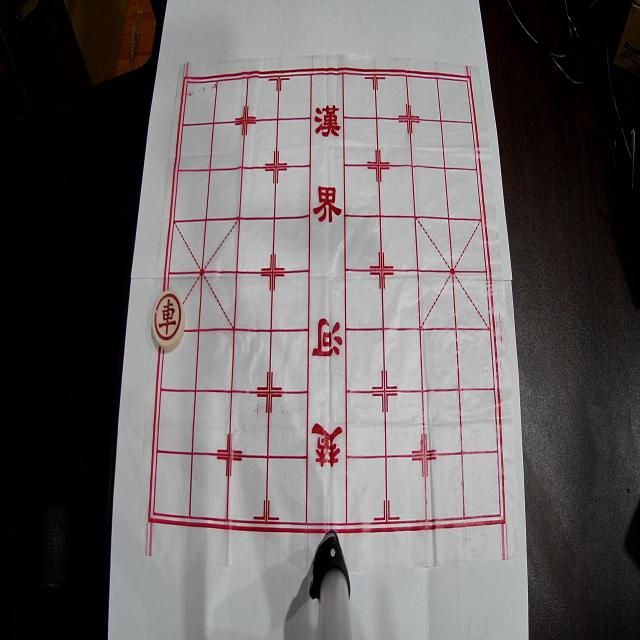red-chariot: (152, 290, 185, 350)
